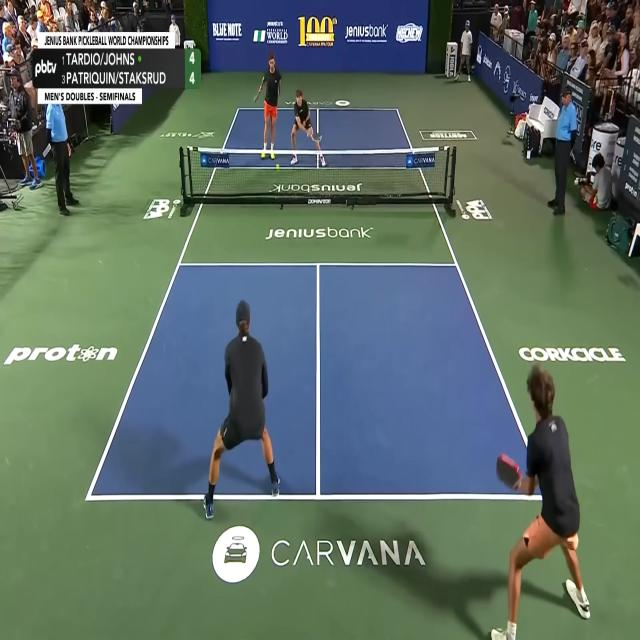ball: (276, 163, 280, 171)
